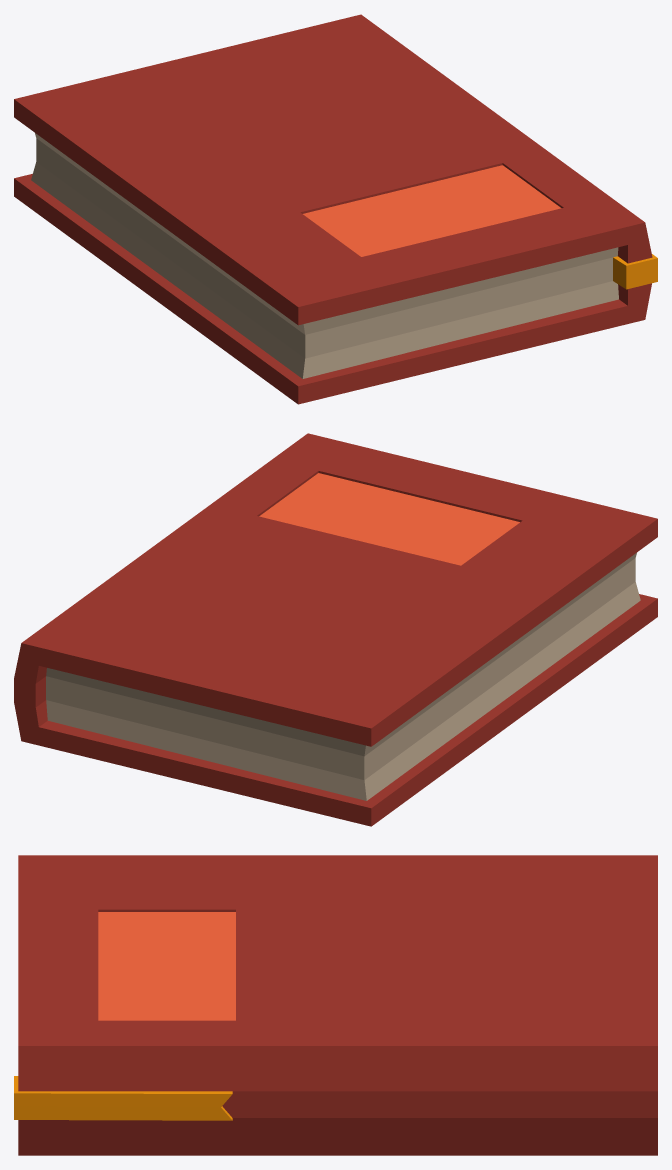
The model's file is SM_Book_01.fbx.
The picture shows the model from 3 angles, top to bottom: view 1: azimuth 30°, elevation 25°; view 2: azimuth 150°, elevation 25°; view 3: azimuth 270°, elevation 25°; orthographic projection. The views are drawn at different scales.
Visible parts, largest first — view 1: SM_Book_01; view 2: SM_Book_01; view 3: SM_Book_01.
Part boxes in pixels (<box>): SM_Book_01: <box>14,14,657,404</box>; SM_Book_01: <box>14,433,657,826</box>; SM_Book_01: <box>14,855,657,1155</box>.
Bounding box in the file's own units: 103 × 26.8 × 143.
